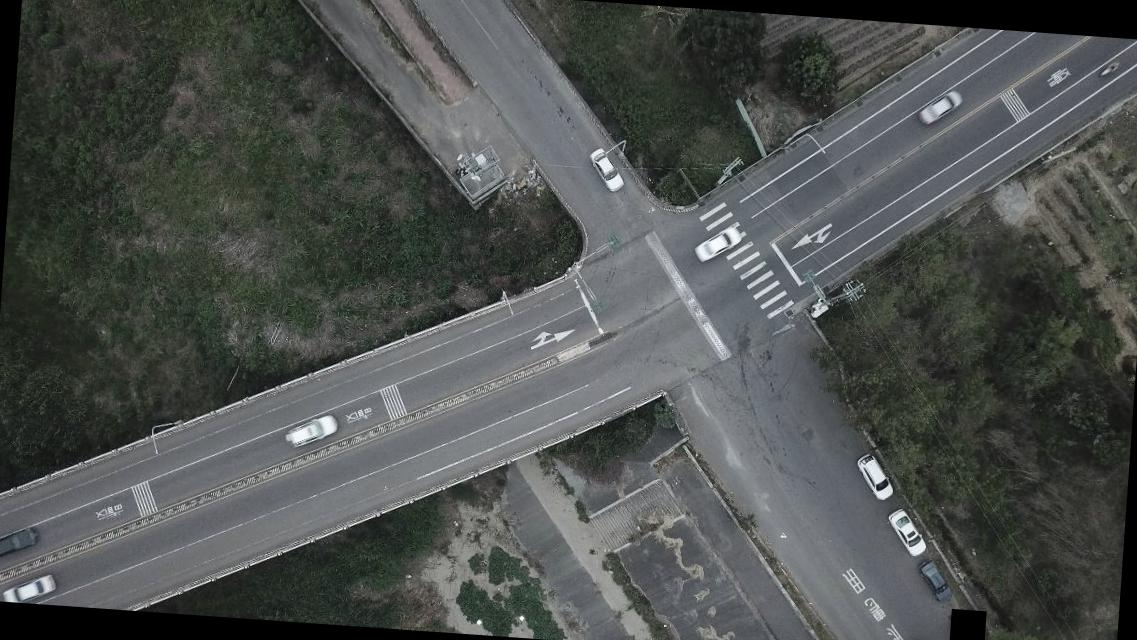vehicle: (849, 448, 897, 503), (695, 222, 744, 267), (0, 568, 59, 605), (917, 87, 967, 128), (886, 507, 926, 558), (286, 410, 337, 449), (585, 146, 626, 194), (912, 558, 953, 604), (0, 522, 40, 563)
